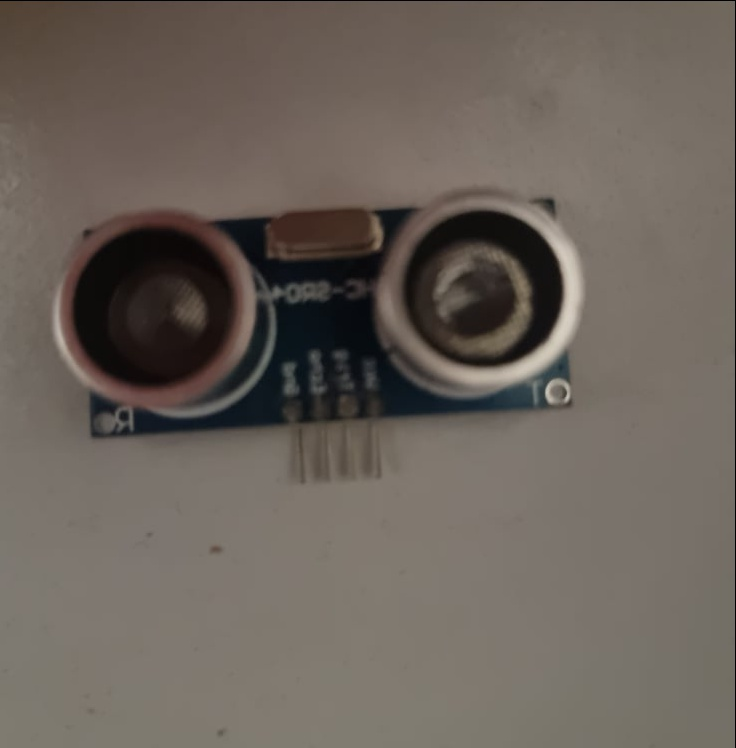SENSOR: (51, 184, 585, 485)
